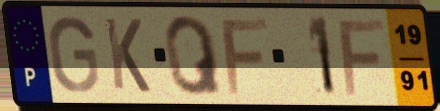1: (306, 13, 338, 101)
F: (218, 16, 271, 97), (335, 17, 388, 98)
G: (46, 14, 101, 96)
K: (102, 15, 153, 96)
Q: (162, 13, 226, 98)
